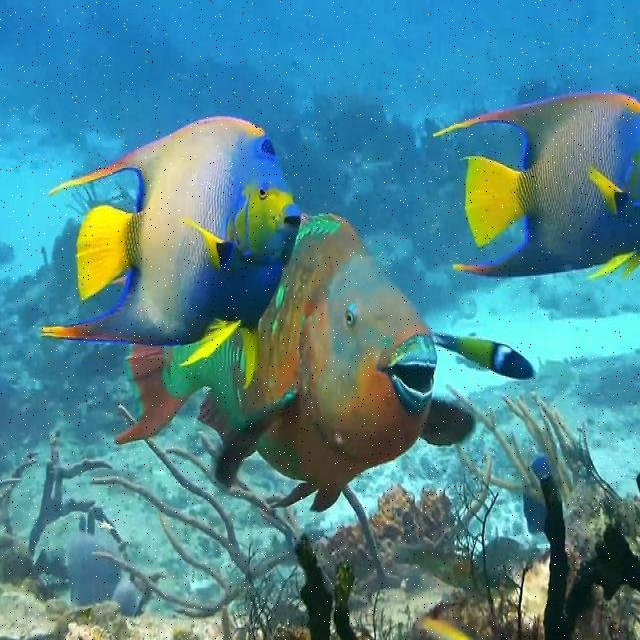fish: (117, 210, 478, 512), (38, 116, 300, 370), (432, 89, 639, 282), (433, 332, 536, 380)
